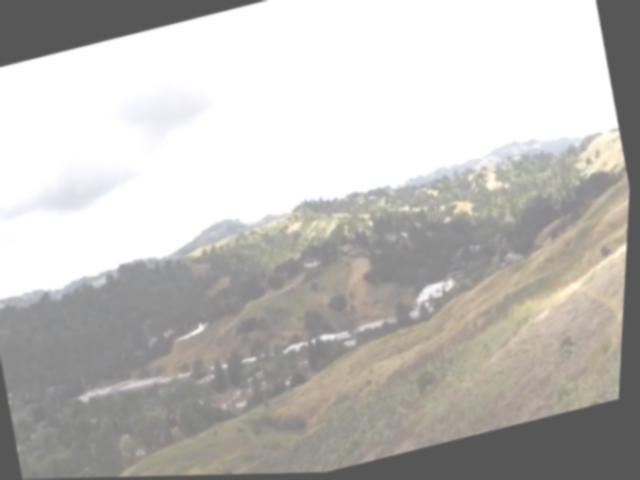iha: (181, 318, 214, 342)
